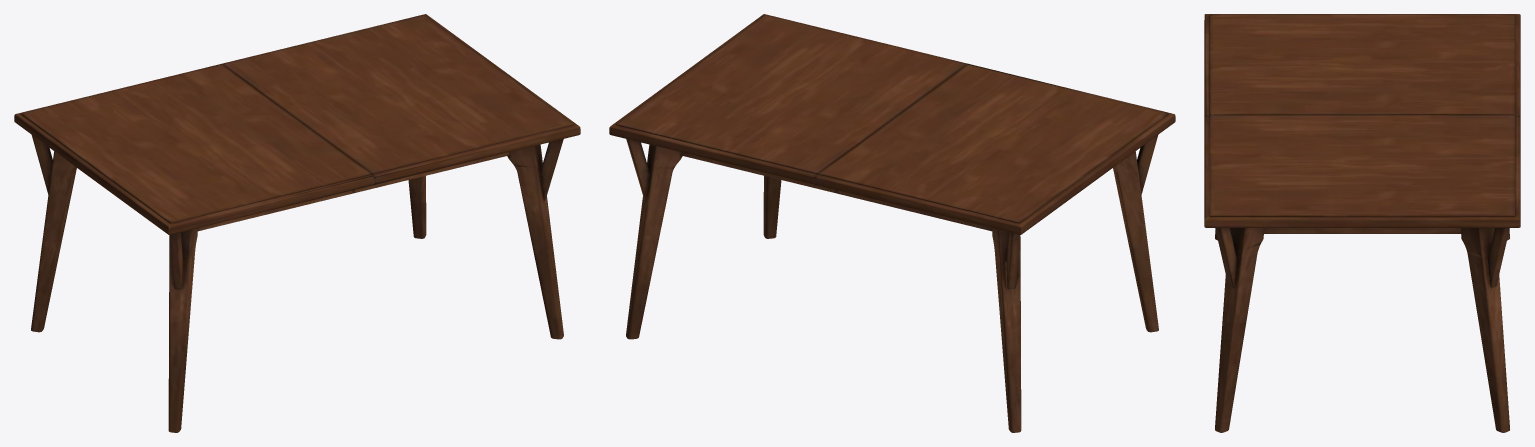
Rendered from dining-table.glb.
3 views of the same model, side by side, from view 1: azimuth 30°, elevation 25°; view 2: azimuth 150°, elevation 25°; view 3: azimuth 270°, elevation 25° (orthographic). The views are drawn at different scales.
Visible parts, largest first — view 1: RootNode; view 2: RootNode; view 3: RootNode.
Boxes of the visible parts, left/top/right/bottom form: RootNode: left=14, top=14, right=580, bottom=432; RootNode: left=609, top=14, right=1175, bottom=432; RootNode: left=1204, top=14, right=1520, bottom=432.
Bounding box in the file's own units: 1.52 × 0.7607 × 0.9898.
1 material, 1 textured.
